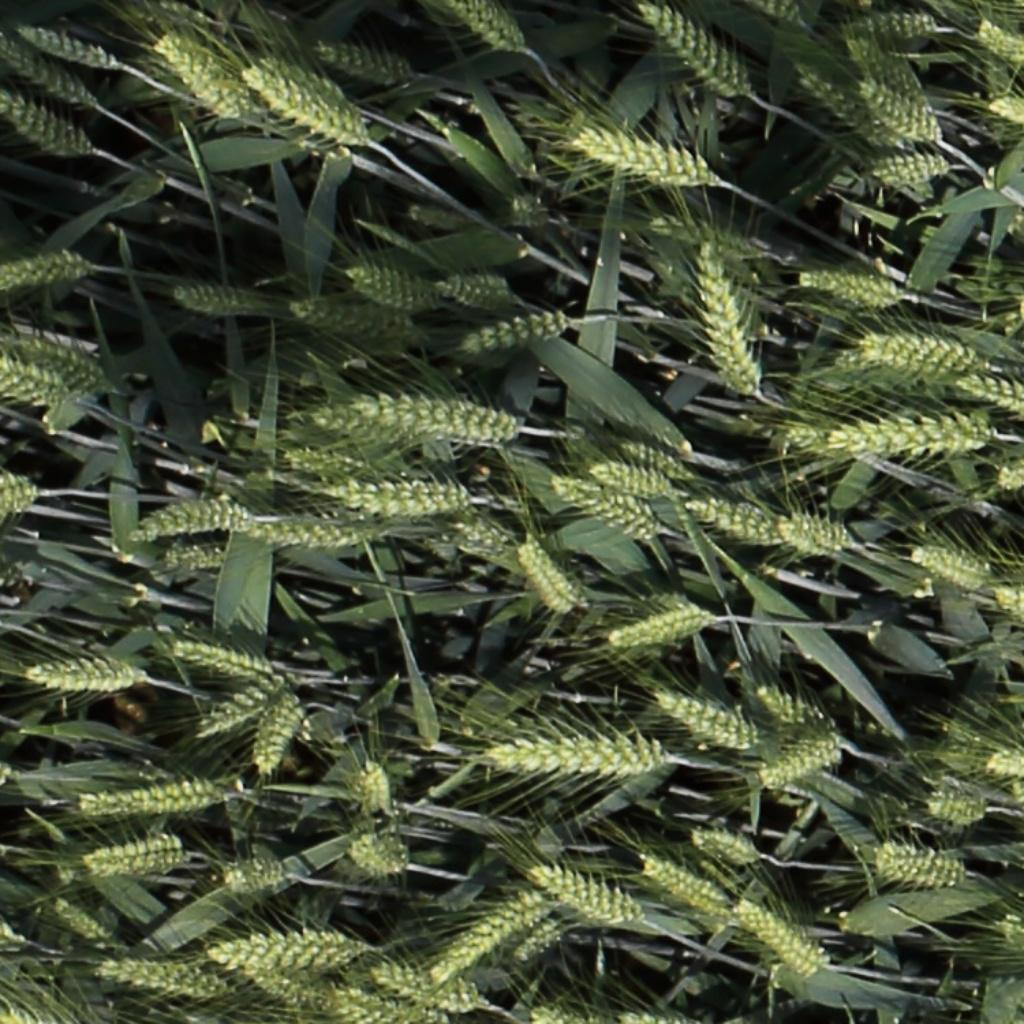0-0: (638, 2, 760, 106), (299, 393, 529, 442), (693, 259, 772, 395), (488, 726, 673, 784), (243, 69, 373, 151), (432, 891, 546, 976), (570, 123, 720, 186), (817, 410, 1003, 457), (151, 30, 247, 117), (207, 924, 374, 973), (88, 954, 237, 1005), (852, 328, 1002, 377), (115, 492, 255, 544), (319, 472, 480, 517), (795, 70, 894, 143), (548, 476, 653, 539), (734, 894, 821, 969), (681, 491, 793, 549), (220, 511, 373, 553), (73, 774, 227, 815), (604, 600, 712, 658), (857, 77, 946, 147), (527, 866, 638, 922), (417, 491, 509, 558), (1, 39, 92, 106), (750, 729, 841, 796), (79, 829, 196, 881), (311, 978, 442, 1024), (513, 536, 587, 615), (1, 91, 92, 154), (655, 693, 757, 749), (25, 651, 144, 699), (641, 855, 729, 917), (336, 257, 437, 310), (195, 673, 285, 732), (845, 36, 925, 102), (370, 965, 473, 1013), (311, 38, 416, 85), (13, 23, 120, 69), (461, 310, 573, 353), (248, 688, 300, 780), (259, 57, 349, 110), (169, 645, 286, 684), (832, 345, 938, 388), (862, 839, 963, 884), (231, 951, 312, 1007), (288, 300, 406, 337), (648, 218, 760, 256), (829, 9, 943, 46), (783, 418, 860, 471), (750, 686, 831, 735), (11, 343, 97, 388), (450, 0, 522, 51), (782, 513, 859, 559), (167, 284, 270, 318), (352, 749, 398, 823), (50, 899, 116, 950), (346, 829, 410, 881), (912, 547, 989, 588), (802, 271, 899, 303), (617, 439, 689, 479), (218, 854, 294, 891), (866, 152, 950, 185), (432, 274, 521, 305), (278, 449, 368, 479), (505, 918, 561, 966), (585, 464, 670, 495), (0, 255, 83, 285), (978, 23, 1024, 76), (692, 831, 760, 866), (495, 189, 554, 229), (1, 356, 64, 393), (921, 792, 987, 827), (958, 375, 1024, 409), (993, 588, 1024, 656), (992, 92, 1024, 148), (987, 748, 1024, 783), (755, 0, 801, 25), (162, 551, 228, 567), (1007, 782, 1024, 841), (996, 462, 1024, 486), (1011, 931, 1024, 959)
